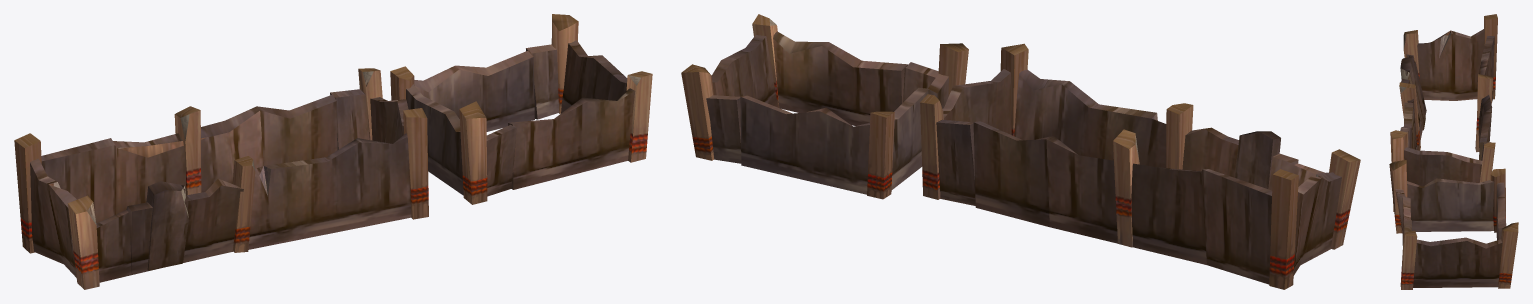
File: daliang_field_a_i01.fbx
The picture shows the model from 3 angles, left to right: view 1: azimuth 30°, elevation 25°; view 2: azimuth 150°, elevation 25°; view 3: azimuth 270°, elevation 25°; orthographic projection. The views are drawn at different scales.
Visible parts, largest first — view 1: daliang_field_a_i01; view 2: daliang_field_a_i01; view 3: daliang_field_a_i01.
Part boxes in pixels (<box>): daliang_field_a_i01: <box>14,14,652,289</box>; daliang_field_a_i01: <box>681,14,1360,289</box>; daliang_field_a_i01: <box>1389,14,1518,289</box>.
Size of the model in its own units: 685 by 126 by 184.
